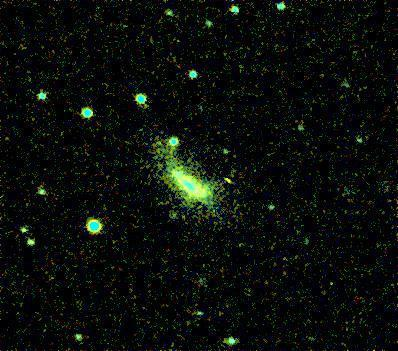star: (210, 163, 240, 193)
